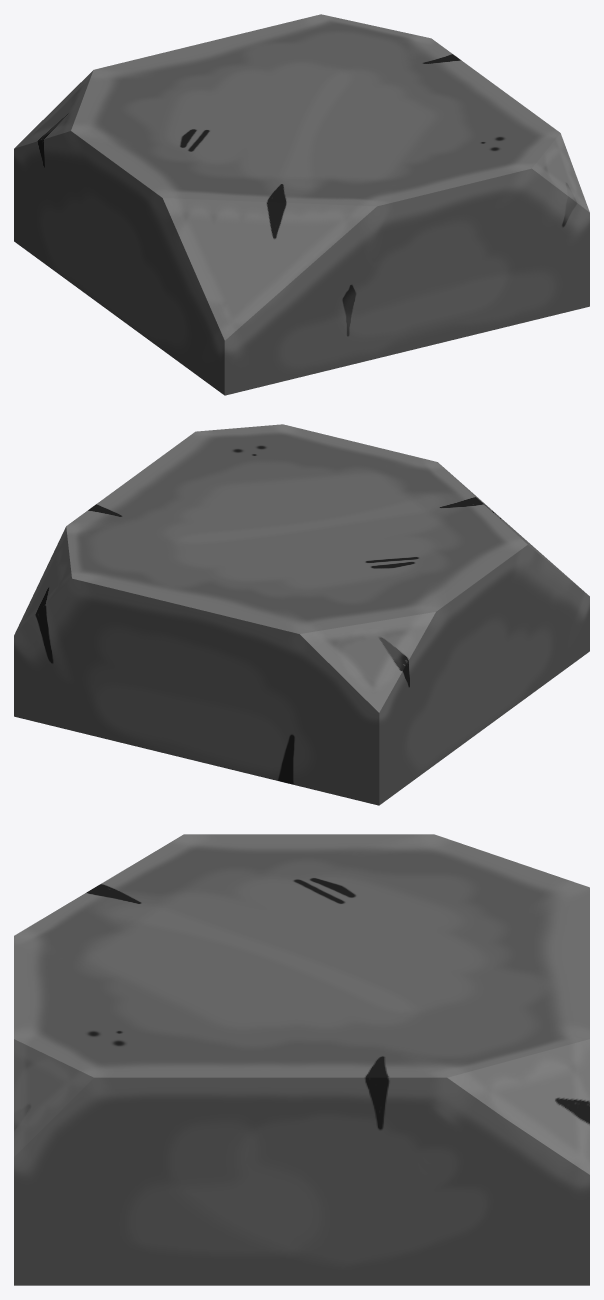
The model's file is lanzable_piedra-chica.fbx.
3 renders of one model, top to bottom at view 1: azimuth 30°, elevation 25°; view 2: azimuth 150°, elevation 25°; view 3: azimuth 270°, elevation 25°, orthographic. The views are drawn at different scales.
Parts seen in each view (by area): view 1: Piedra14; view 2: Piedra14; view 3: Piedra14.
Part boxes in pixels (x1=…): Piedra14: x1=14, y1=14, x2=589, y2=395; Piedra14: x1=14, y1=424, x2=589, y2=805; Piedra14: x1=14, y1=834, x2=589, y2=1285.
Bounding box in the file's own units: 1339 × 533 × 1339.
